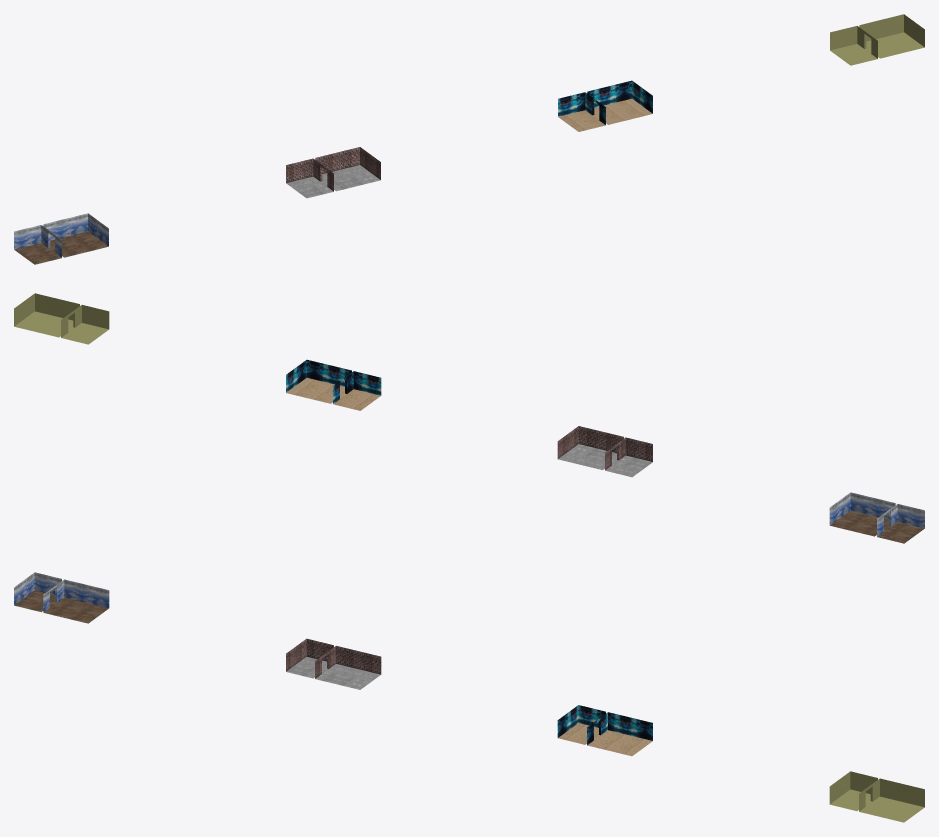
File: rooms.glb
The picture shows the model from 3 angles, top to bottom: view 1: azimuth 30°, elevation 25°; view 2: azimuth 150°, elevation 25°; view 3: azimuth 330°, elevation 25°; orthographic projection.
Visible parts, largest first — view 1: Plane, Plane.002, Plane.003, Plane.001; view 2: Plane.003, Plane.001, Plane.002, Plane; view 3: Plane.003, Plane.001, Plane.002, Plane.
Boxes of the visible parts, left/top/right/bottom form: Plane: left=14, top=213, right=108, bottom=264; Plane.002: left=558, top=80, right=652, bottom=131; Plane.003: left=830, top=14, right=924, bottom=65; Plane.001: left=286, top=147, right=380, bottom=198; Plane.003: left=14, top=293, right=109, bottom=344; Plane.001: left=557, top=426, right=652, bottom=477; Plane.002: left=286, top=359, right=381, bottom=410; Plane: left=829, top=492, right=924, bottom=543; Plane.003: left=829, top=771, right=924, bottom=822; Plane.001: left=286, top=638, right=381, bottom=689; Plane.002: left=557, top=705, right=652, bottom=756; Plane: left=14, top=572, right=109, bottom=623.
Size of the model in its own units: 98.2 by 1.91 by 4.03.
Materials: 8 (8 with a texture image).
